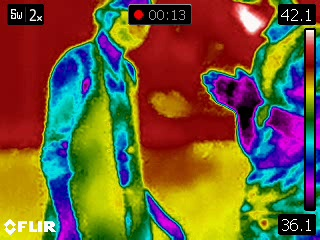human: (41, 1, 187, 240), (204, 1, 320, 240)
